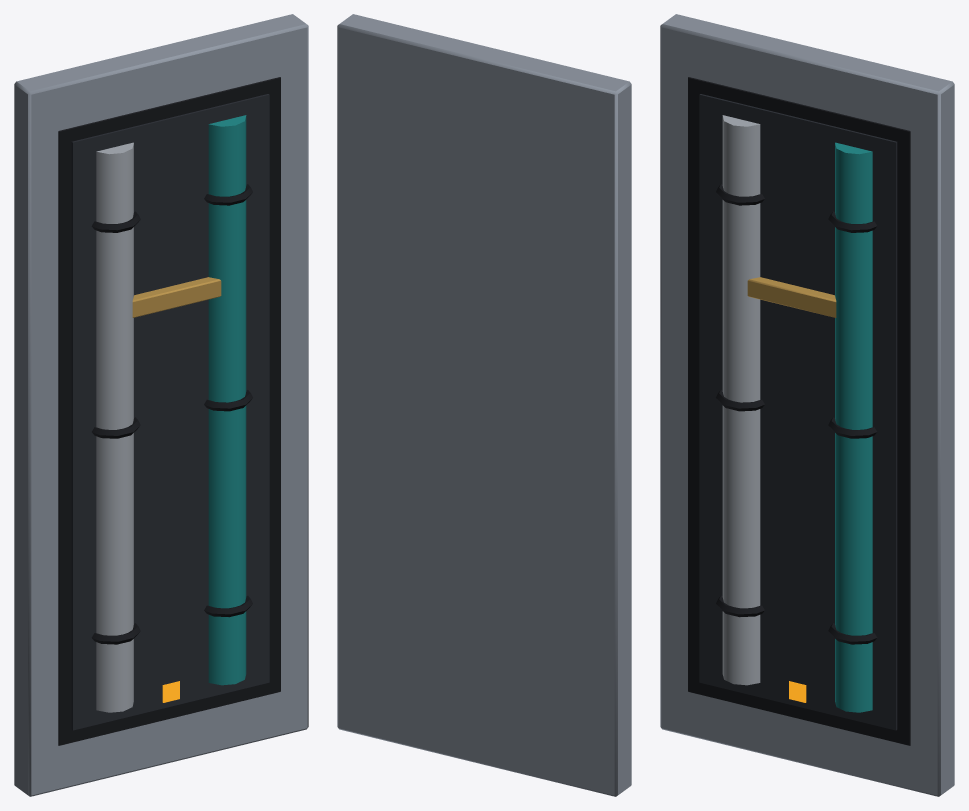
Rendered from wallpanel_tall_pipe_niche.glb.
3 renders of one model, left to right at view 1: azimuth 30°, elevation 25°; view 2: azimuth 150°, elevation 25°; view 3: azimuth 330°, elevation 25°, orthographic.
Visible parts, largest first — view 1: wallpanel_tall_pipe_niche; view 2: wallpanel_tall_pipe_niche; view 3: wallpanel_tall_pipe_niche.
Part boxes in pixels (left/top/right/bottom): wallpanel_tall_pipe_niche: left=14, top=14, right=308, bottom=796; wallpanel_tall_pipe_niche: left=337, top=14, right=631, bottom=796; wallpanel_tall_pipe_niche: left=660, top=14, right=954, bottom=796.
Size of the model in its own units: 1 by 2.4 by 0.1756.
